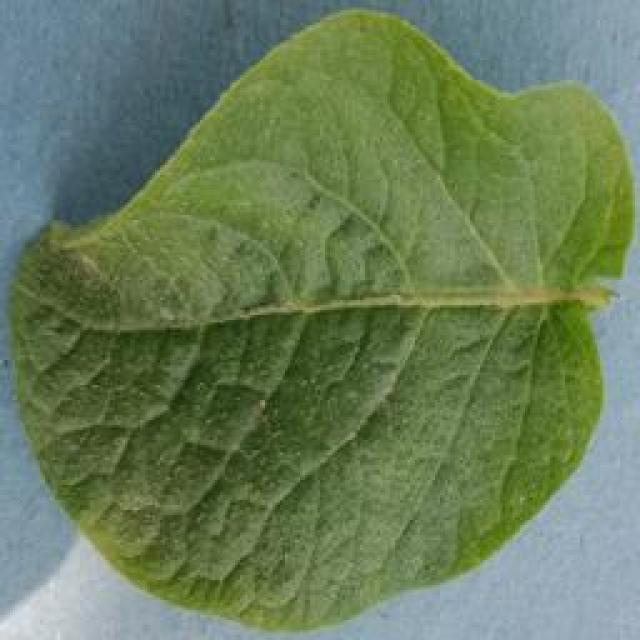Potato_Healthy: (11, 6, 624, 631)
